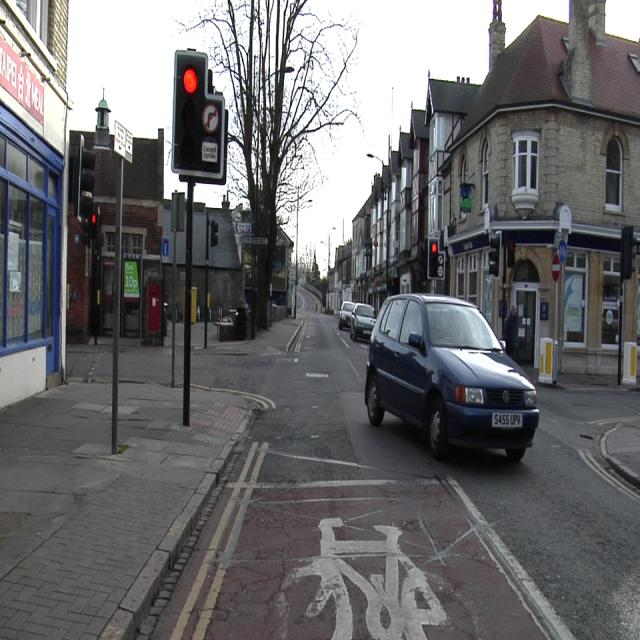Building: (333, 0, 639, 373), (1, 2, 116, 407), (192, 208, 244, 319)
Car: (365, 295, 538, 459), (351, 304, 375, 339), (339, 302, 355, 328)
Road: (148, 312, 638, 637)
Tree: (175, 2, 359, 326)
